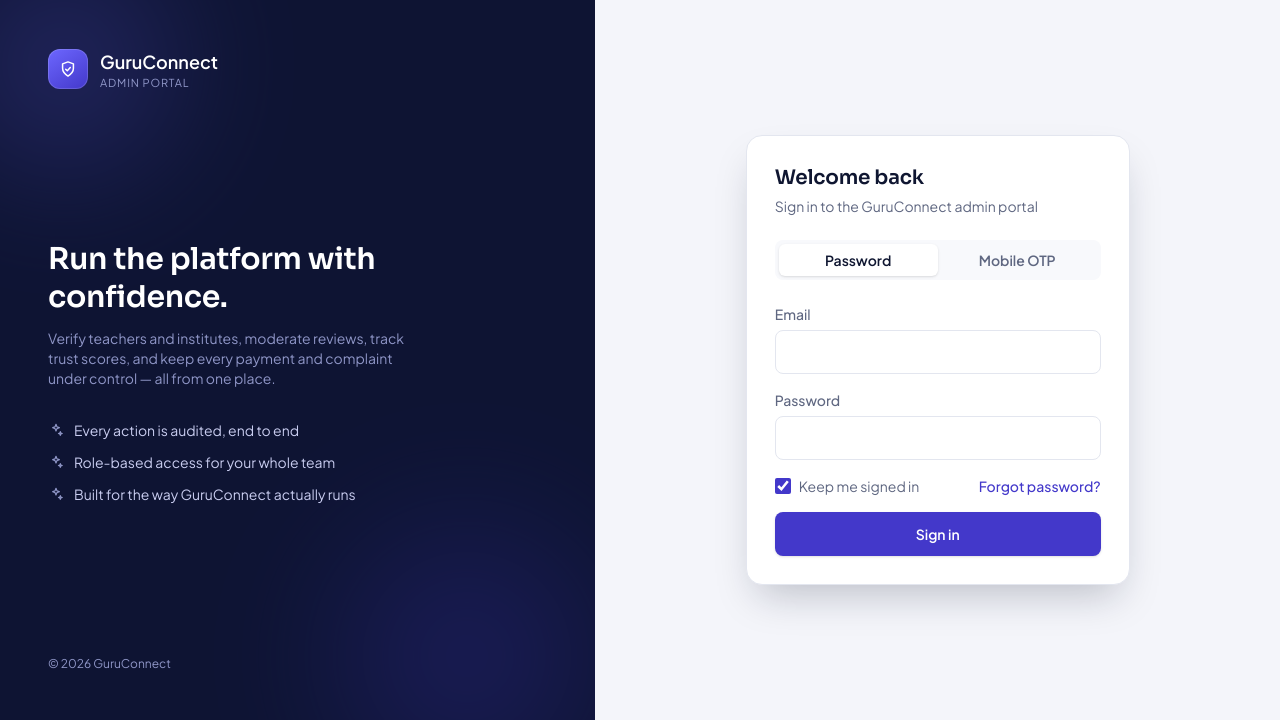
Test case: LoginPage › shows the API message for wrong credentials
This screenshot has width=1280, height=720.
Type "a@b.co" into the field labelled "Email" at (938, 352), box [775,330,1101,374]
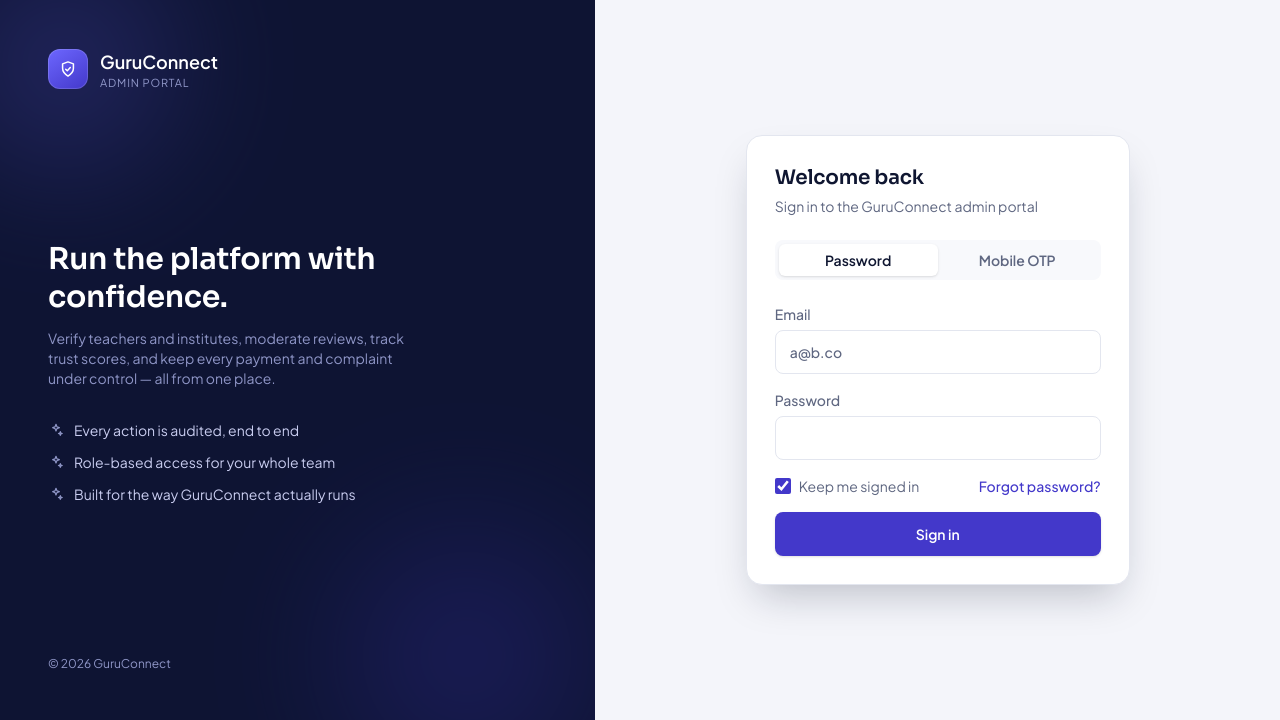
Type "wrong-password" into the password field labelled "Password" at (938, 438), box [775,416,1101,460]
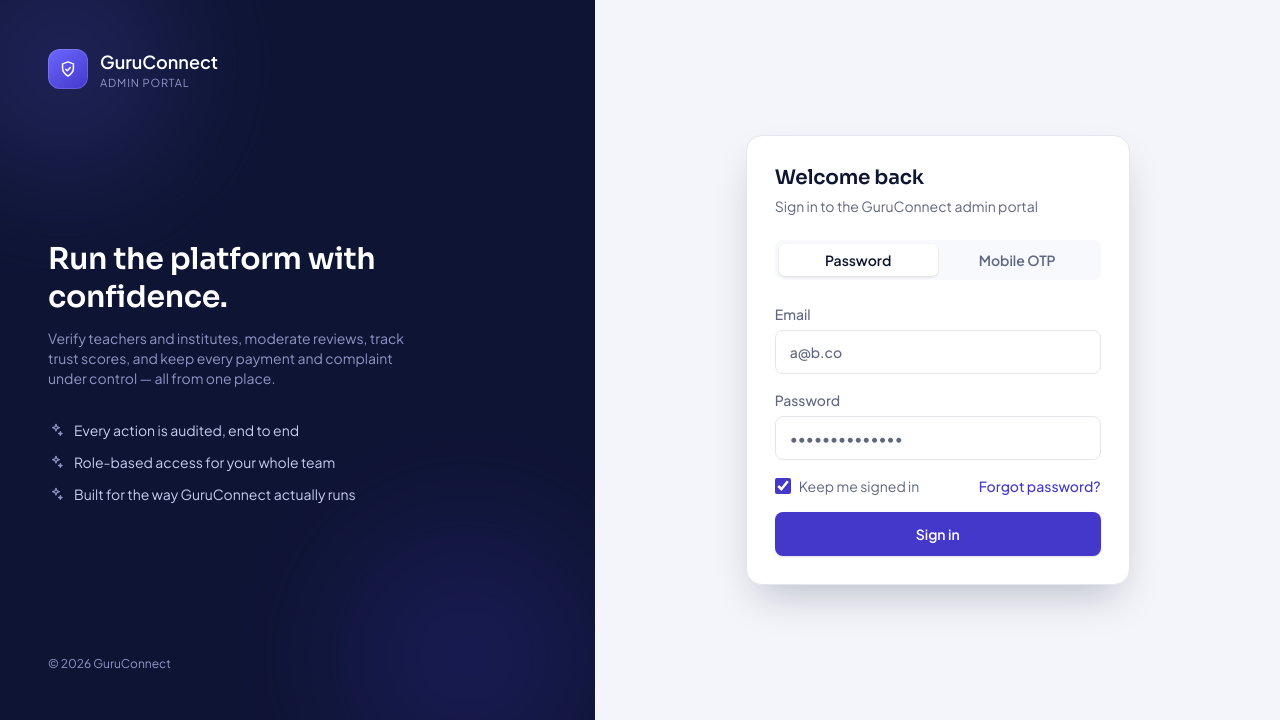
Click the button "Sign in" at (938, 534), box [775,512,1101,556]
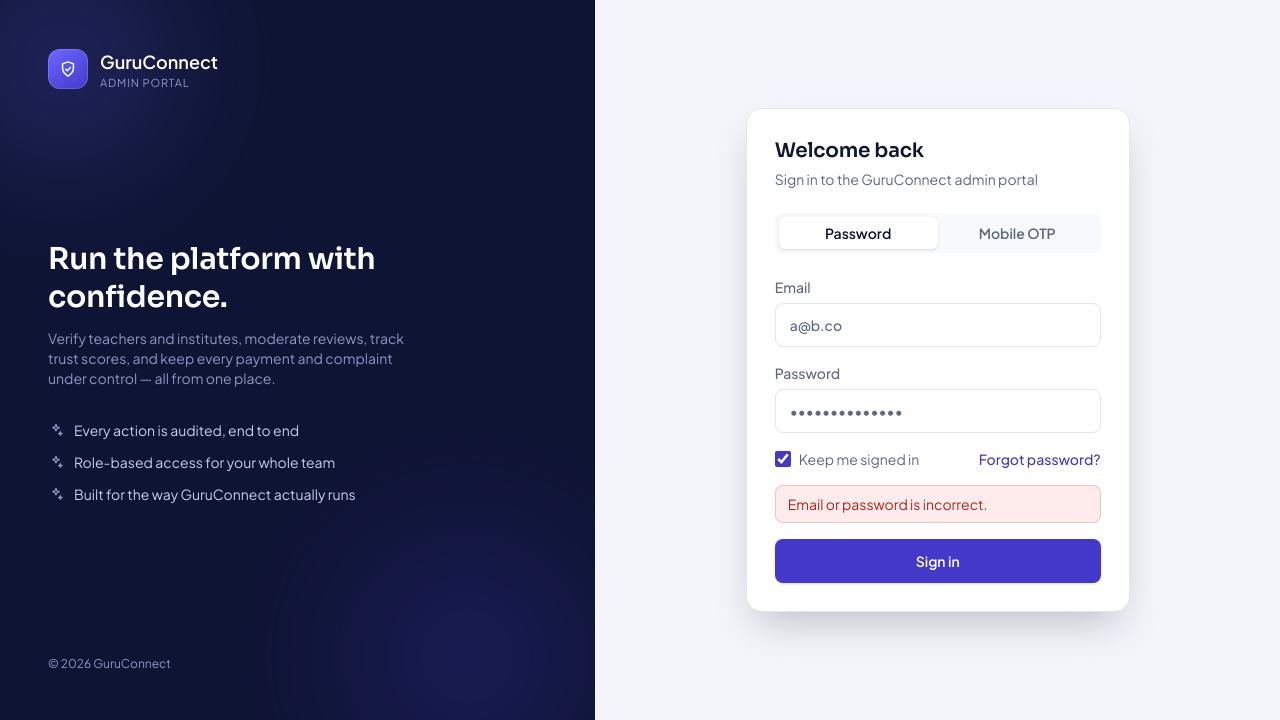
Expected: the button "Sign in" is enabled, [775,539,1101,583]
Now the text "Email or password is incorrect." is shown, box [775,485,1101,523]
